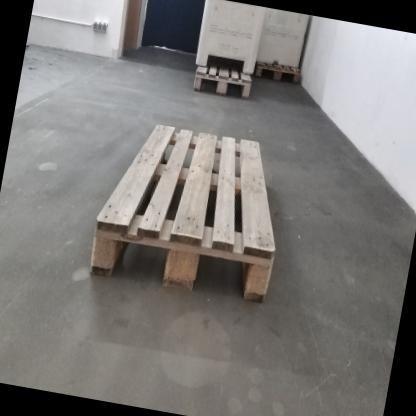BoxFace: (84, 121, 278, 306)
